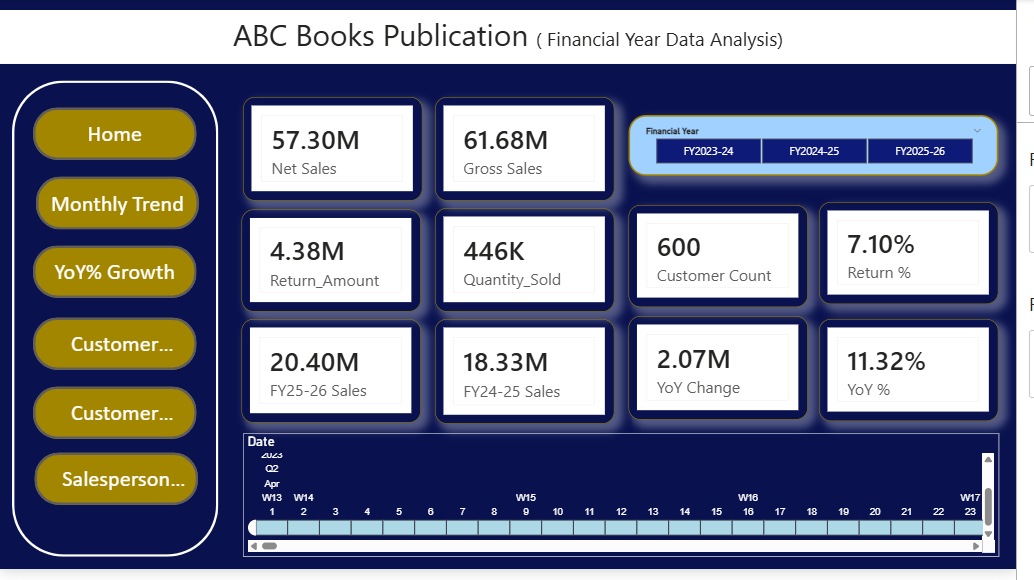

This screenshot's page, from the dashboard's own definition file:
{"tool":"powerbi","page":{"name":"KPI","canvas":[1280,720],"ordinal":0},"visuals":[{"type":"cardVisual","fields":{"Data":["Sales Transactions.Net Sales"]},"box":[305.4,124.1,225.9,130.4],"z":0},{"type":"cardVisual","fields":{"Data":["Sales Transactions.Gross Sales"]},"box":[548.8,124.1,225.9,130.4],"z":1000},{"type":"cardVisual","fields":{"Data":["Sales Transactions.Return_Amount"]},"box":[304.3,267.2,225.9,128.8],"z":2000},{"type":"cardVisual","fields":{"Data":["Sales Transactions.Quantity_Sold"]},"box":[548.2,264,225.9,130.4],"z":3000},{"type":"cardVisual","fields":{"Data":["Sales Transactions.Customer Count"]},"box":[791.1,260.9,225.9,128.8],"z":4000},{"type":"cardVisual","fields":{"Data":["Sales Transactions.Return %"]},"box":[1031.2,257.7,225.9,128.8],"z":5000},{"type":"cardVisual","fields":{"Data":["Sales Transactions.FY25-26 Sales"]},"box":[304.3,403.5,225.9,130.4],"z":6000},{"type":"cardVisual","fields":{"Data":["Sales Transactions.FY24-25 Sales"]},"box":[548.2,403.5,225.9,132],"z":7000},{"type":"cardVisual","fields":{"Data":["Sales Transactions.YoY Change"]},"box":[791.1,400.3,225.9,130.4],"z":8000},{"type":"cardVisual","fields":{"Data":["Sales Transactions.YoY %"]},"box":[1031.2,403.5,225.9,128.8],"z":9000},{"type":"slicer","fields":{"Values":["Sales Transactions.Financial Year"]},"box":[792.1,147.9,466,76.3],"z":10000},{"type":"textbox","box":[0,16,1280,68],"z":11000},{"type":"shape","box":[16,104,260,600],"z":12000},{"type":"actionButton","title":"Home","box":[44.5,224.3,205.2,66.8],"z":13000},{"type":"actionButton","title":"Home","box":[42,138,206,66],"z":14000},{"type":"actionButton","title":"Home","box":[42,312,206,66],"z":15000},{"type":"actionButton","title":"Home","box":[42,402,206,66],"z":16000},{"type":"actionButton","title":"Home","box":[42,490,206,66],"z":17000},{"type":"actionButton","title":"Home","box":[44,572,206,66],"z":18000},{"type":"Timeline1447991079100","fields":{"Time":["Date.Date"]},"box":[305.4,547.2,952.8,155.9],"z":19000}]}

Visuals, with their boxes in screenshot pixels (x1, y1, x2, y2), scaled from the page's 1280x720 canvas onto the 1034x580 screenshot:
cardVisual - Sales Transactions.Net Sales: locate(247, 100, 429, 205)
cardVisual - Sales Transactions.Gross Sales: locate(443, 100, 626, 205)
cardVisual - Sales Transactions.Return_Amount: locate(246, 215, 428, 319)
cardVisual - Sales Transactions.Quantity_Sold: locate(443, 213, 625, 318)
cardVisual - Sales Transactions.Customer Count: locate(639, 210, 822, 314)
cardVisual - Sales Transactions.Return %: locate(833, 208, 1016, 311)
cardVisual - Sales Transactions.FY25-26 Sales: locate(246, 325, 428, 430)
cardVisual - Sales Transactions.FY24-25 Sales: locate(443, 325, 625, 431)
cardVisual - Sales Transactions.YoY Change: locate(639, 322, 822, 428)
cardVisual - Sales Transactions.YoY %: locate(833, 325, 1016, 429)
slicer - Sales Transactions.Financial Year: locate(640, 119, 1016, 181)
textbox: locate(0, 13, 1033, 68)
shape: locate(13, 84, 223, 567)
"Home" actionButton: locate(36, 181, 202, 234)
"Home" actionButton: locate(34, 111, 200, 164)
"Home" actionButton: locate(34, 251, 200, 304)
"Home" actionButton: locate(34, 324, 200, 377)
"Home" actionButton: locate(34, 395, 200, 448)
"Home" actionButton: locate(36, 461, 202, 514)
Timeline1447991079100 - Date.Date: locate(247, 441, 1016, 566)
